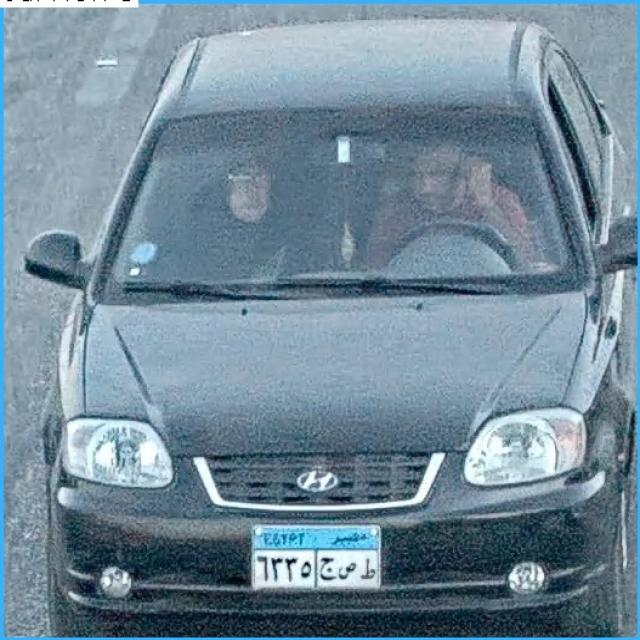windshield: (108, 108, 568, 293)
